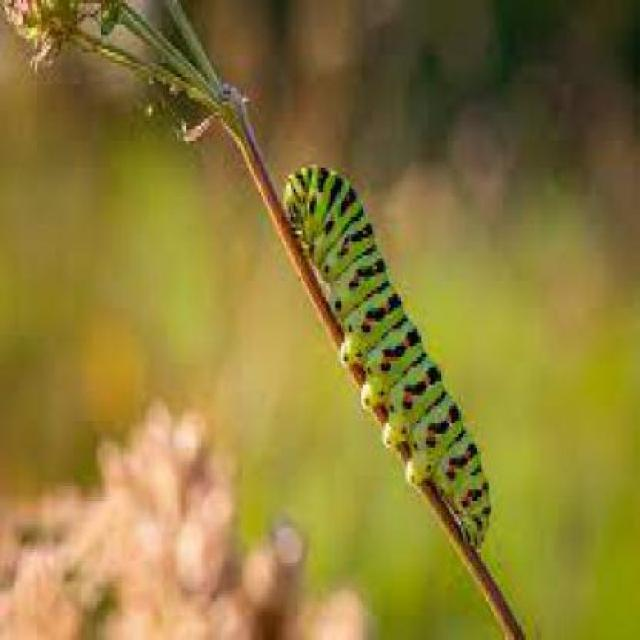Plaga: (278, 140, 504, 571)
